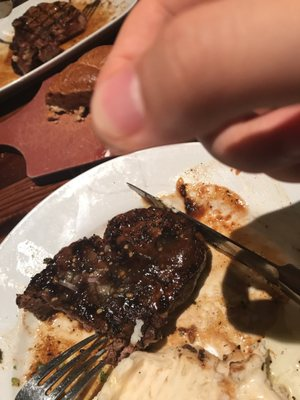burger: (126, 181, 300, 306)
sandwich: (126, 181, 300, 308)
sushi: (0, 0, 139, 119)
